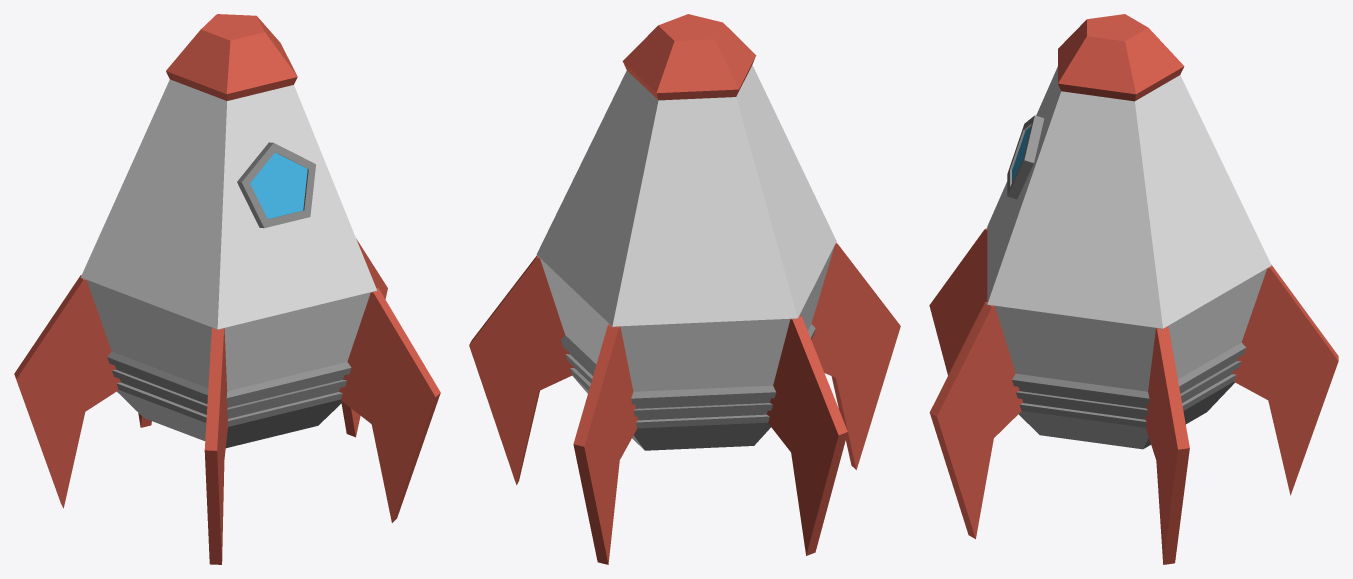
Rendered from rocket.fbx.
3 views of the same model, side by side, from view 1: azimuth 30°, elevation 25°; view 2: azimuth 150°, elevation 25°; view 3: azimuth 270°, elevation 25° (orthographic).
Parts seen in each view (by area): view 1: Rocket; view 2: Rocket; view 3: Rocket.
Boxes of the visible parts, x1,y1,x2,y2 form: Rocket: (14, 14, 440, 564); Rocket: (469, 14, 900, 564); Rocket: (929, 14, 1338, 564).
Size of the model in its own units: 346 by 413 by 329.
